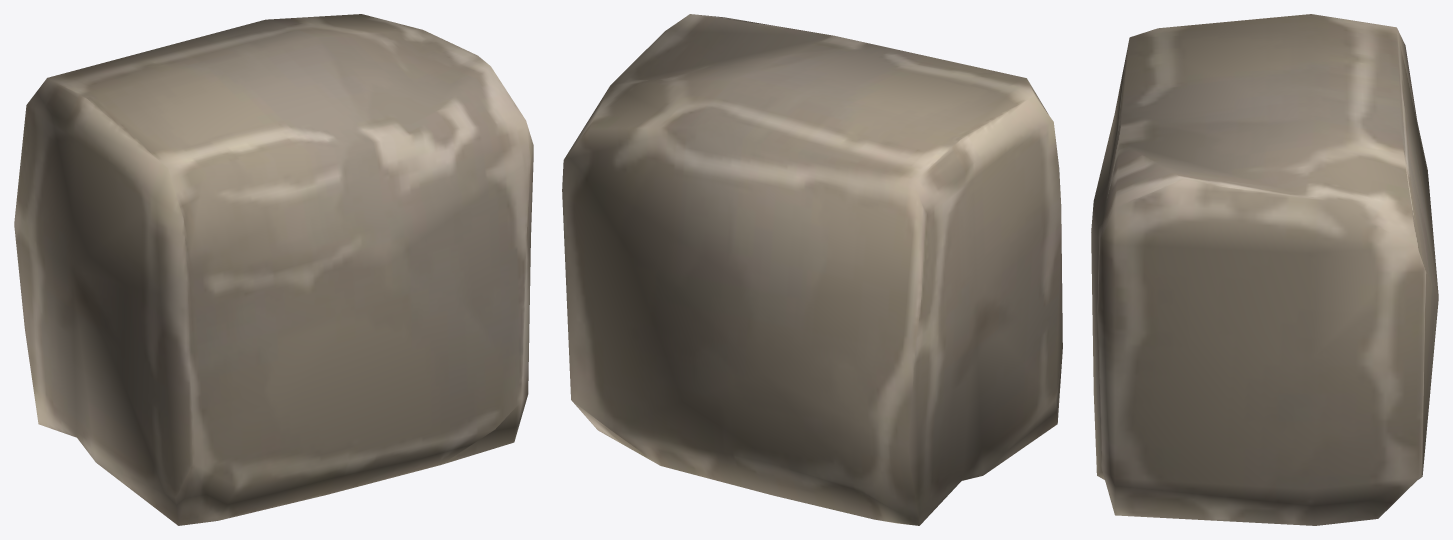
The model's file is Prop_Brick4.gltf.
3 renders of one model, left to right at view 1: azimuth 30°, elevation 25°; view 2: azimuth 150°, elevation 25°; view 3: azimuth 270°, elevation 25°, orthographic.
Parts seen in each view (by area): view 1: Prop_Brick4; view 2: Prop_Brick4; view 3: Prop_Brick4.
Boxes of the visible parts, x1,y1,x2,y2 form: Prop_Brick4: [14, 14, 533, 525]; Prop_Brick4: [562, 14, 1062, 525]; Prop_Brick4: [1091, 14, 1438, 525].
Bounding box in the file's own units: 0.2567 × 0.2497 × 0.2156.
Materials: 1 (1 with a texture image).
